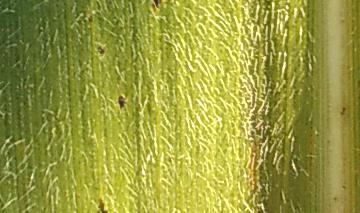tarspot: (115, 93, 129, 111), (95, 198, 109, 213), (150, 1, 161, 10), (96, 45, 105, 56), (111, 210, 118, 213)
